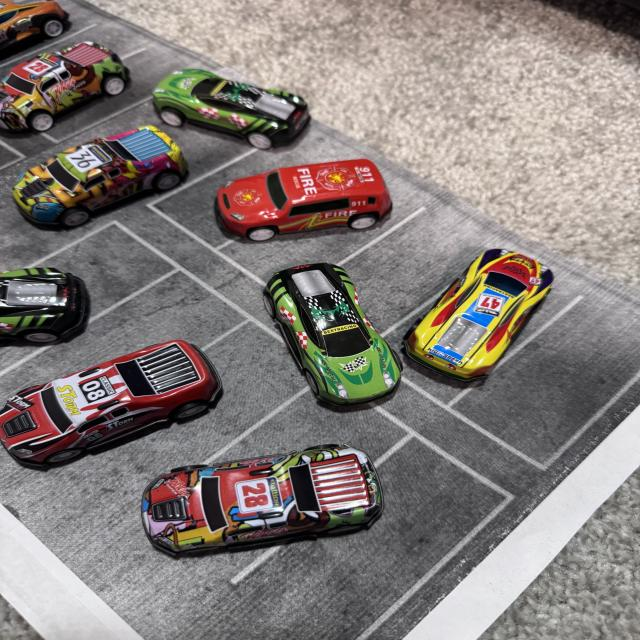car: (106, 439, 417, 563), (0, 335, 270, 453), (248, 264, 425, 408), (403, 228, 549, 396), (142, 54, 344, 156), (9, 137, 202, 241), (214, 160, 410, 241), (0, 52, 166, 144), (0, 255, 120, 356), (0, 0, 105, 43)
